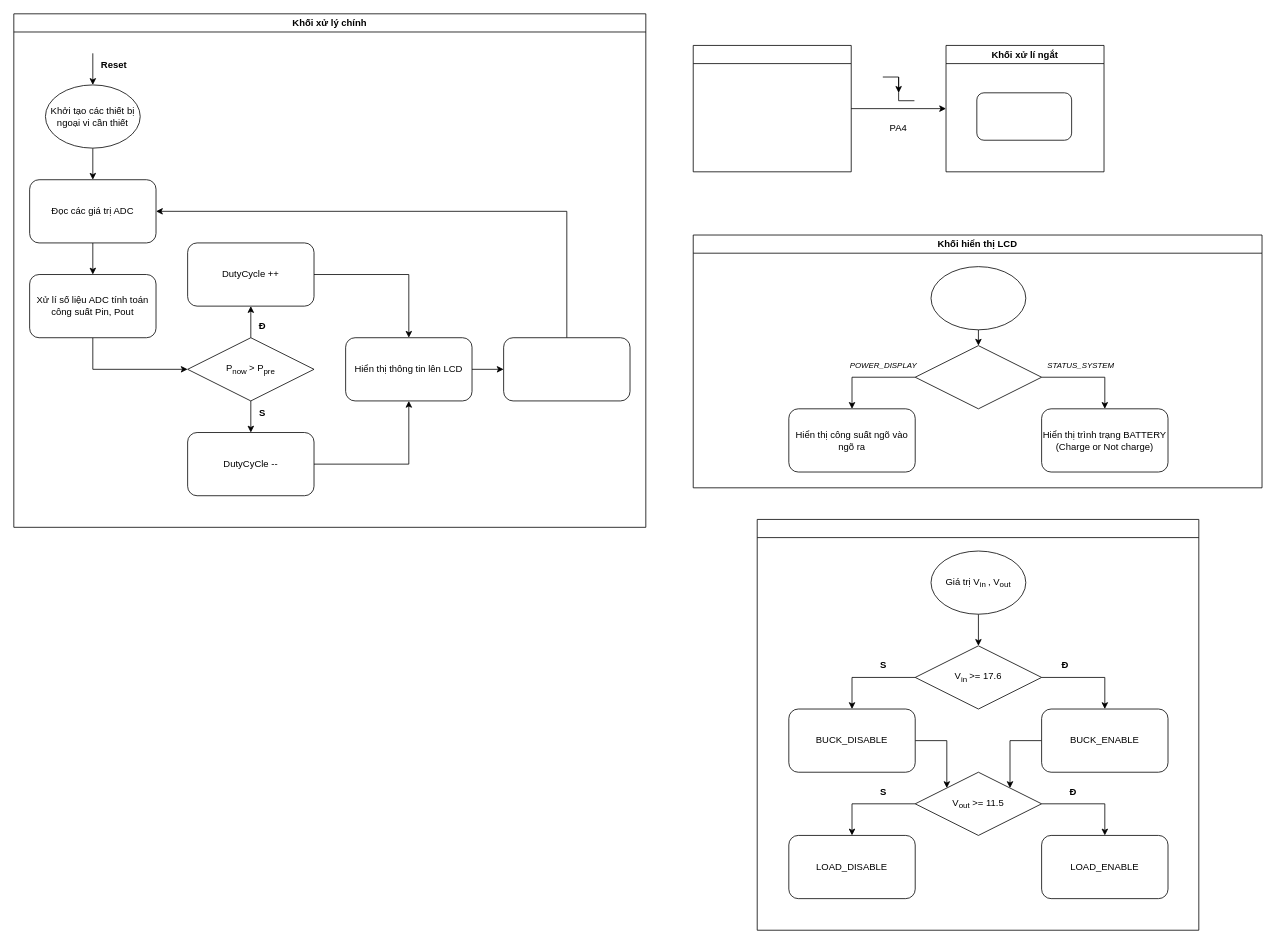
The diagram is 1276 pixels wide and 944 high, and some of its shapes have lost their labels. The shapes that lost their labels are listed below. From the top down, each one's centre as x and y in pixels, then its label:
At point 771,108: "Khối xử lí chính".
At point 1024,116: "Đảo trạng thái hiện thị".
At point 978,298: "Giá trị P in và P out".
At point 566,369: "Điều khiển mạch Buck và Load".
At point 978,377: "Biến trạng thái hiển thị ?".
At point 977,724: "Khối điều khiển mạch BUCK và LOAD".
